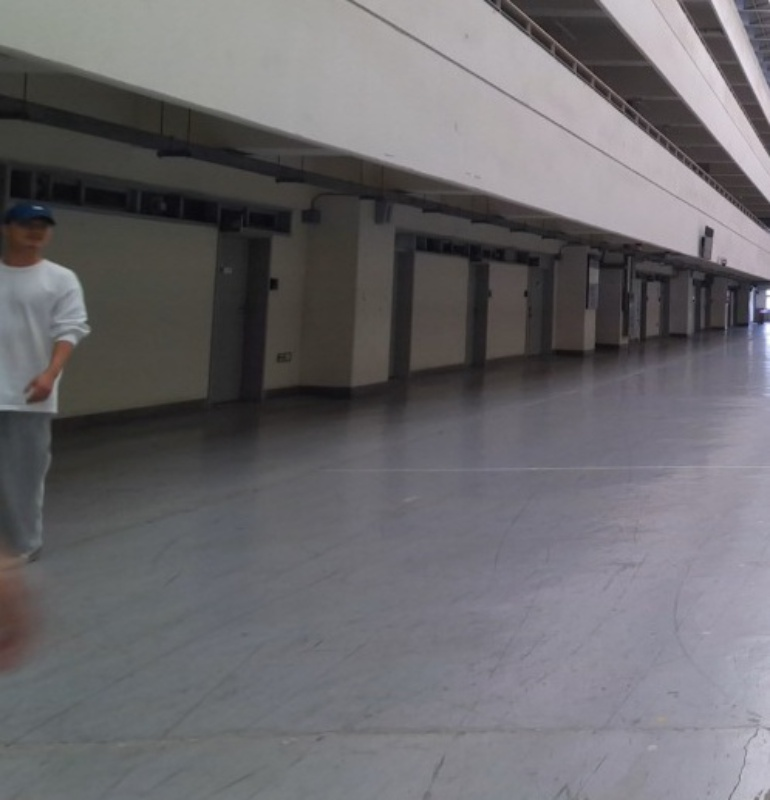person: (0, 197, 95, 567)
